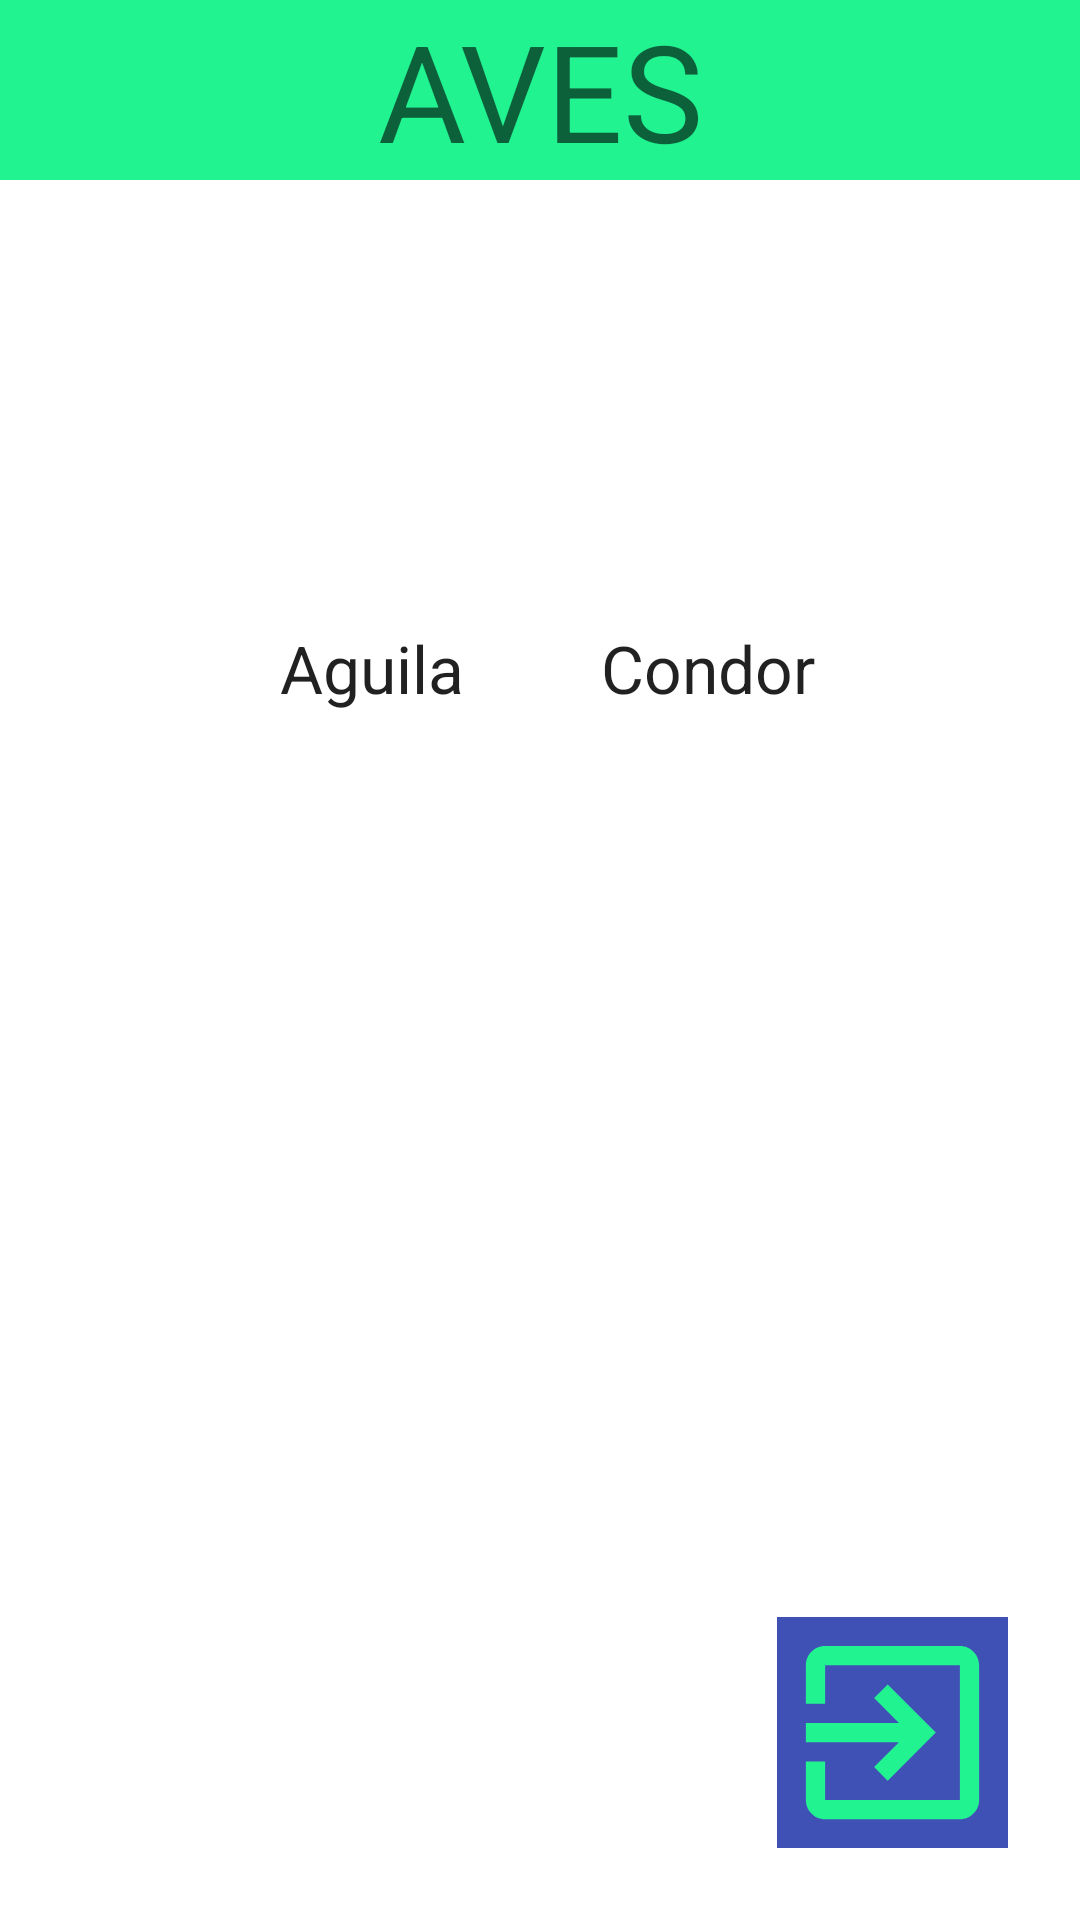

Screen size 1080x1920. Icon name, then its box in pixels as (x1, y1, x2, y2):
exit to app: (777, 1617, 1008, 1848)
